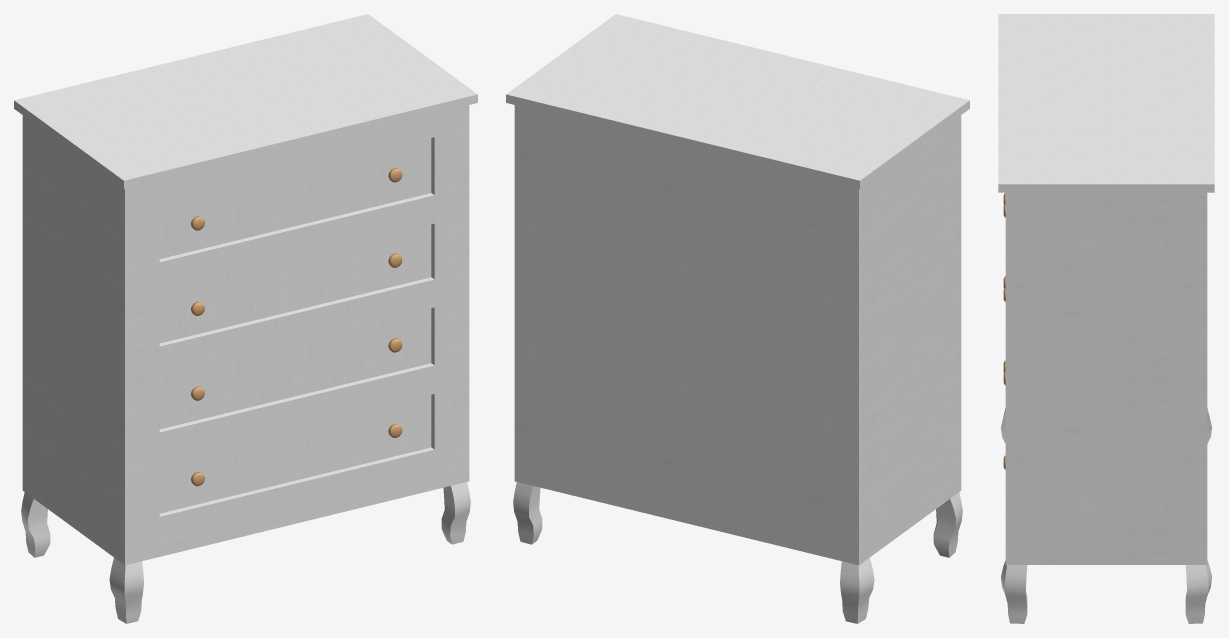
Rendered from Drawer34.fbx.
3 views of the same model, side by side, from view 1: azimuth 30°, elevation 25°; view 2: azimuth 150°, elevation 25°; view 3: azimuth 270°, elevation 25° (orthographic).
Visible parts, largest first — view 1: Drawer34_Body, Drawer34_1, Drawer34_3, Drawer34_4, Drawer34_2; view 2: Drawer34_Body; view 3: Drawer34_Body.
Part boxes in pixels (x1,y1,x2,y2): Drawer34_Body: (14,14,477,623); Drawer34_1: (148,123,445,275); Drawer34_3: (148,293,445,446); Drawer34_4: (148,380,445,530); Drawer34_2: (148,210,445,360); Drawer34_Body: (506,14,969,623); Drawer34_Body: (998,14,1214,623).
Bounding box in the file's own units: 100 × 122 × 53.91.
